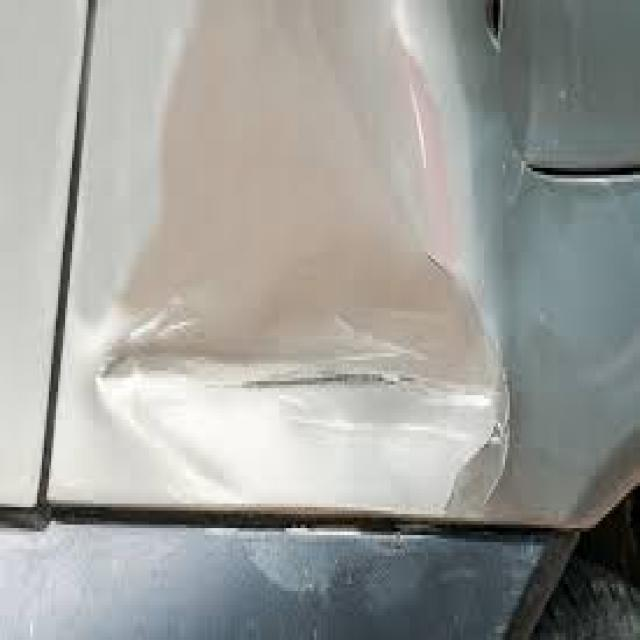minor: (71, 50, 542, 640)
